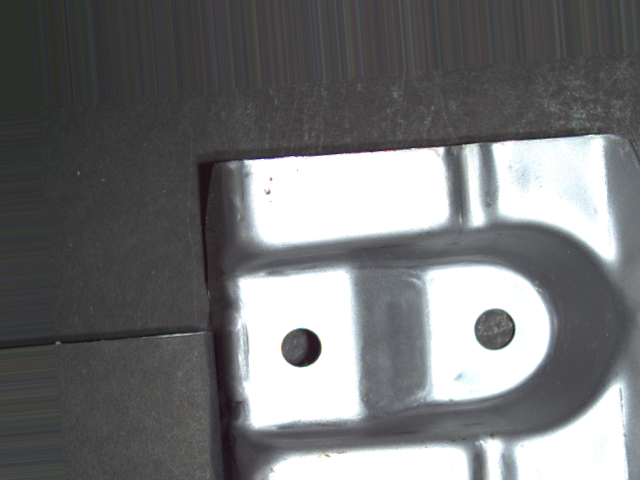defect: (472, 306, 518, 355)
